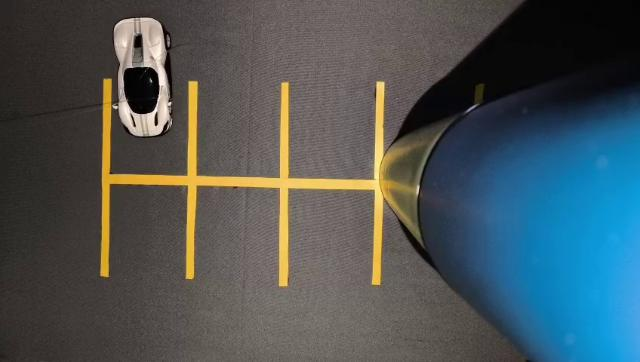toy_car: (101, 3, 190, 163)
